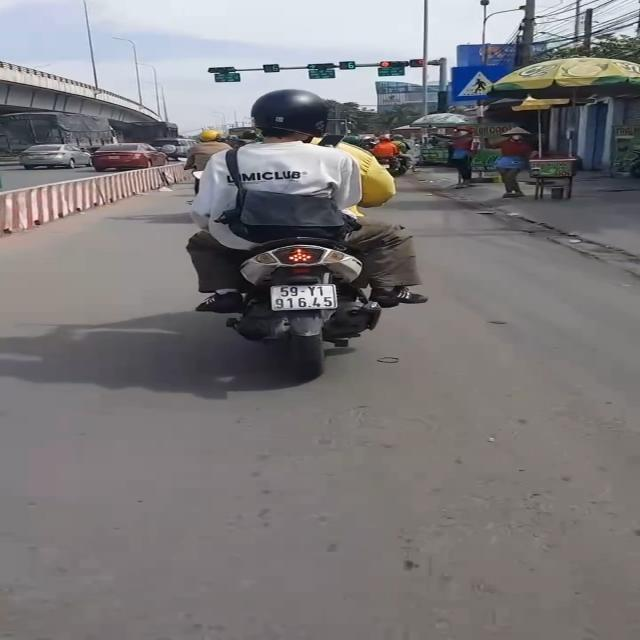224-duong-nguoi-di-bo-cat-ngang: (451, 62, 526, 100)
